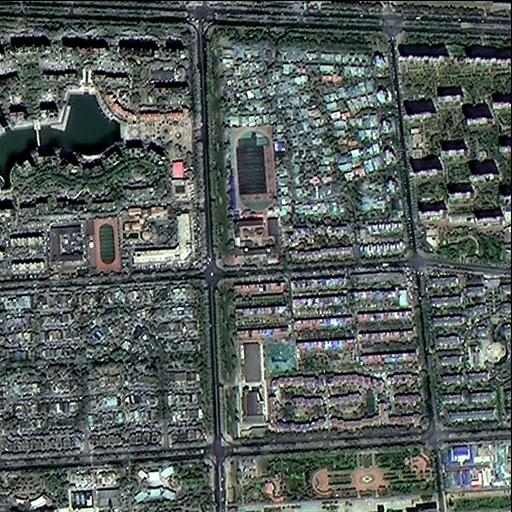school: (226, 123, 283, 267), (48, 215, 120, 273)
